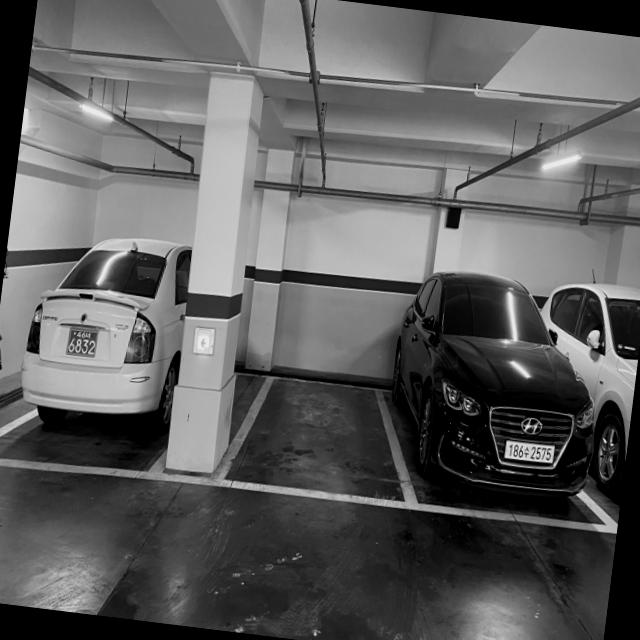car: (380, 263, 614, 507), (18, 228, 188, 427)
free: (208, 375, 418, 510)
